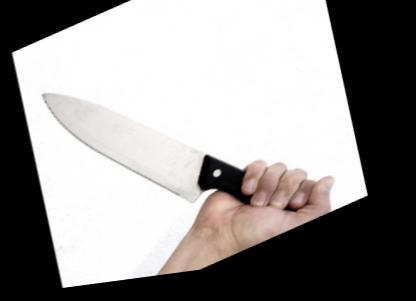knife: (19, 0, 373, 294)
